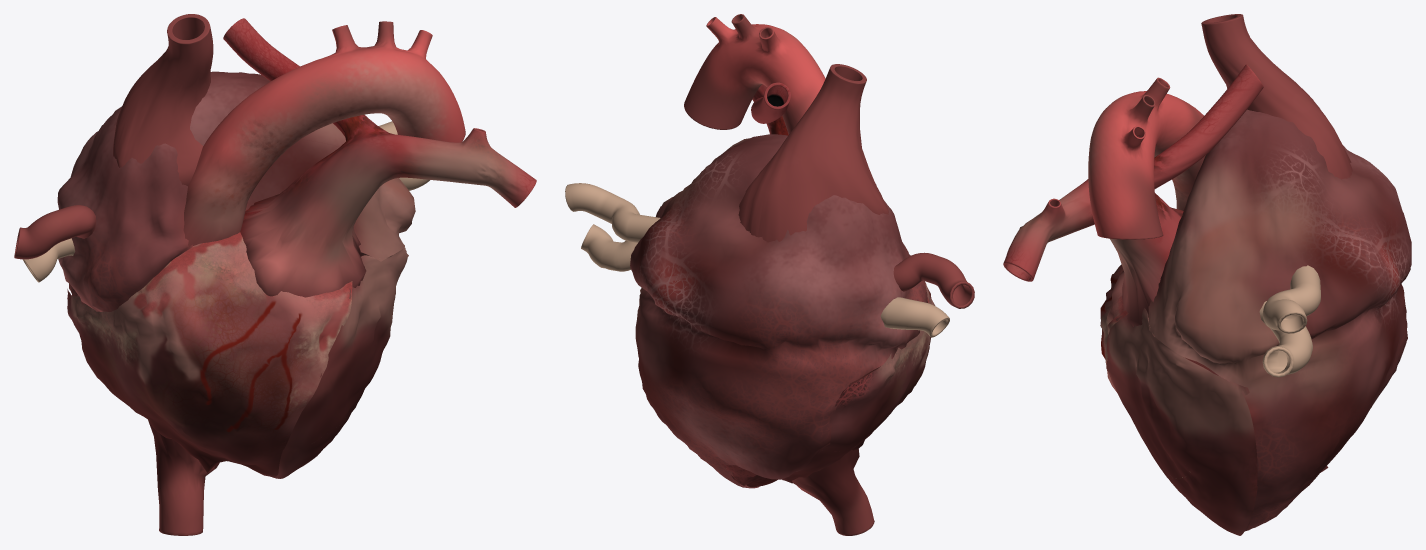
Rendered from To sketchfab 12.fbx.
The picture shows the model from 3 angles, left to right: view 1: azimuth 30°, elevation 25°; view 2: azimuth 150°, elevation 25°; view 3: azimuth 270°, elevation 25°; orthographic projection. The views are drawn at different scales.
Parts seen in each view (by area): view 1: Object002, Box002, Line002, Line001, Object001, Line003, Line010, Line006, Line007; view 2: Box002, Line003, Line001, Object002, Line010, Line009, Line006, Line007, Line008, Line002; view 3: Box002, Object001, Line002, Line001, Line003, Line009, Line008, Object002.
Part boxes in pixels (x1,y1,x2,y2): Object002: (67, 232, 352, 478); Box002: (57, 71, 415, 311); Line002: (223, 18, 536, 297); Line001: (183, 21, 465, 248); Object001: (272, 247, 408, 478); Line003: (113, 14, 213, 185); Line010: (148, 420, 219, 535); Line006: (14, 205, 96, 259); Line007: (22, 238, 75, 282); Box002: (630, 134, 927, 488); Line003: (738, 64, 888, 242); Line001: (684, 14, 825, 134); Object002: (718, 282, 935, 487); Line010: (792, 387, 874, 535); Line009: (565, 183, 660, 242); Line006: (893, 252, 974, 308); Line007: (880, 297, 949, 337); Line008: (581, 224, 637, 271); Line002: (751, 82, 790, 135); Box002: (1148, 109, 1411, 531); Object001: (1106, 308, 1257, 535); Line002: (1003, 64, 1263, 326); Line001: (1088, 77, 1205, 239); Line003: (1201, 14, 1352, 179); Line009: (1262, 265, 1320, 333); Line008: (1259, 301, 1312, 377); Object002: (1100, 264, 1328, 472).
Bounding box in the file's own units: 560 × 630 × 467.
